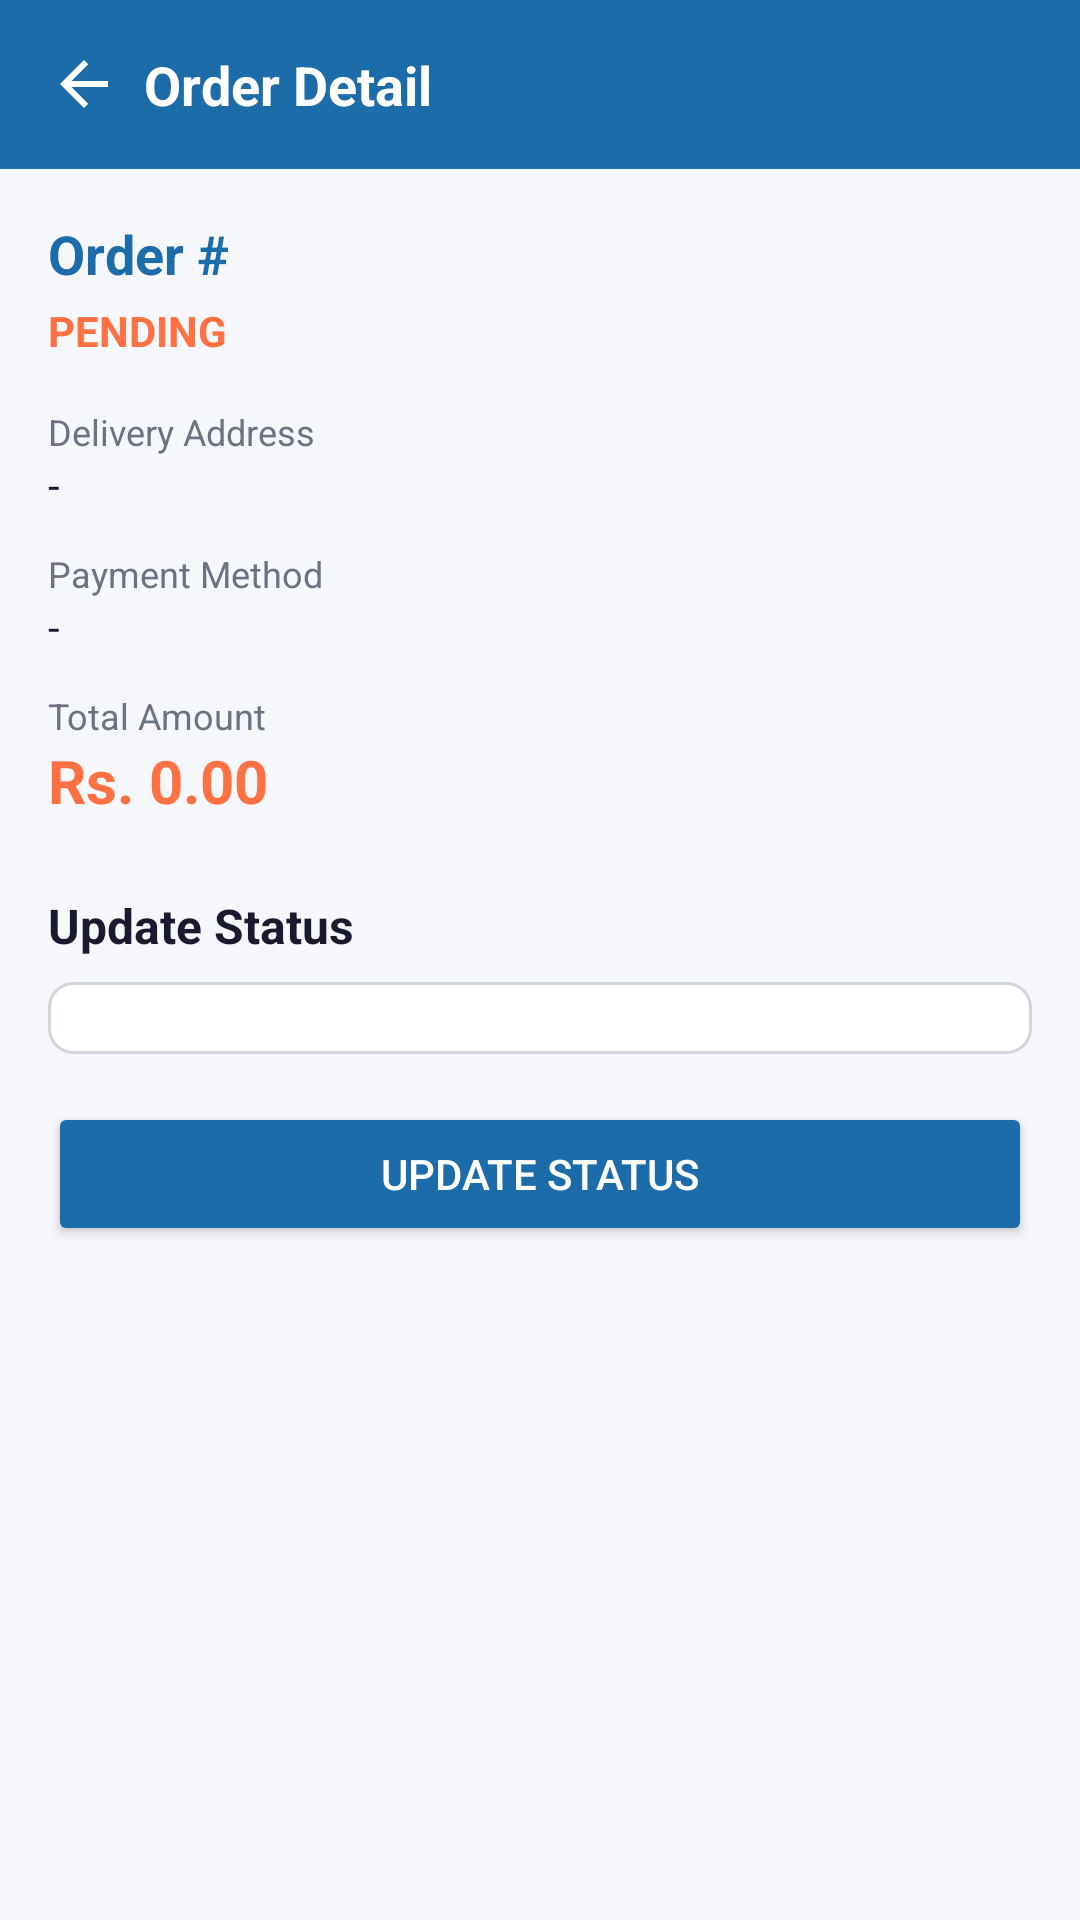

Where to tap for icons on this 1080 × 1920 app screen, as (x,y):
back: (84,84)
